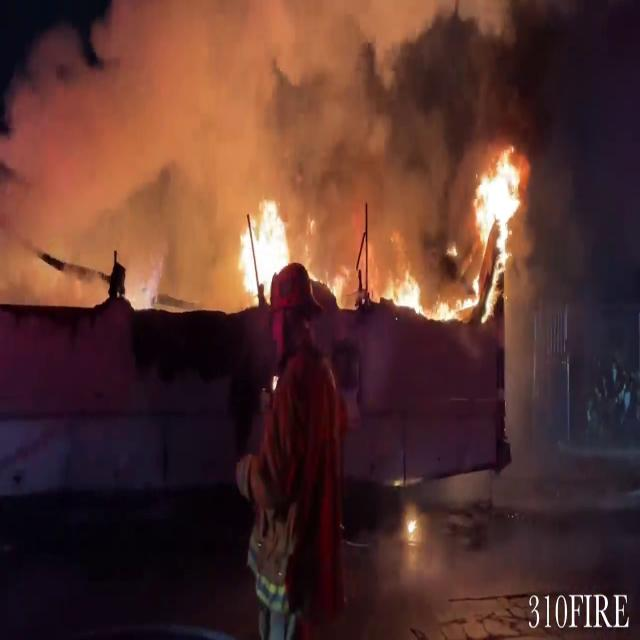Fire: (231, 192, 333, 322), (465, 148, 534, 302)
Smoke: (1, 0, 587, 261)
